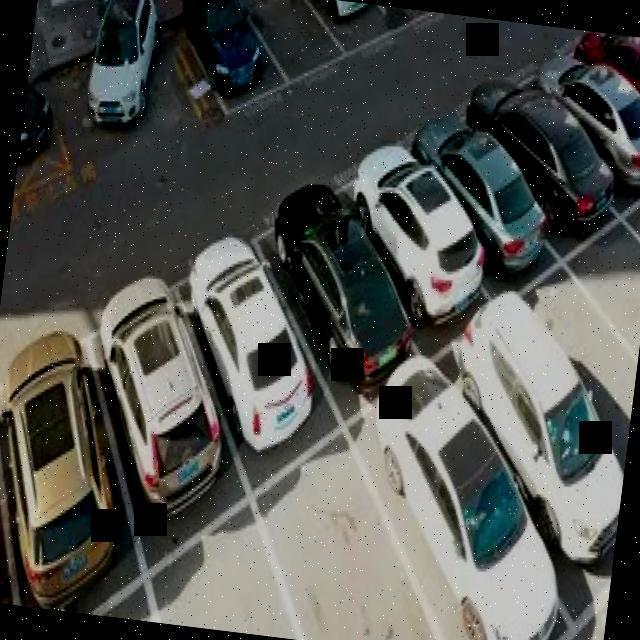car: (317, 352, 605, 640), (422, 293, 640, 602), (67, 263, 280, 556), (167, 224, 365, 503), (0, 325, 174, 620), (244, 168, 438, 416), (330, 120, 514, 352), (393, 80, 578, 298), (460, 64, 630, 258), (531, 28, 640, 216), (173, 0, 288, 117), (296, 0, 393, 60), (350, 2, 443, 36)
free: (231, 411, 473, 640), (489, 242, 640, 535), (543, 183, 640, 418), (233, 0, 347, 84)
